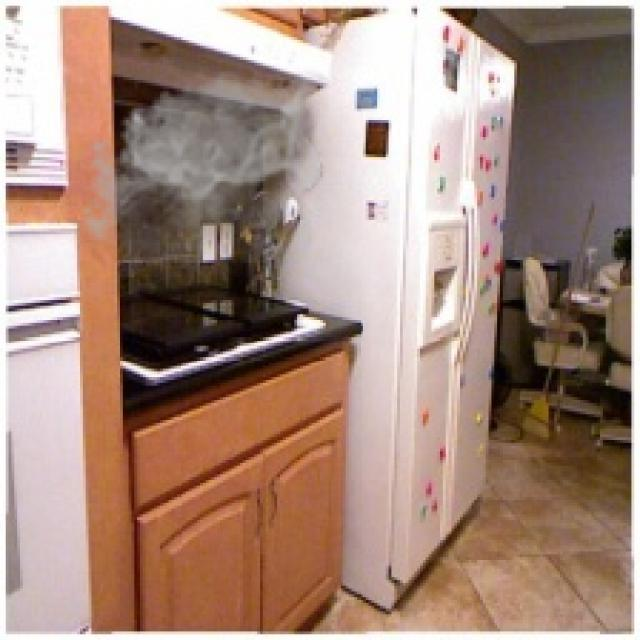smoke: (74, 63, 329, 263)
